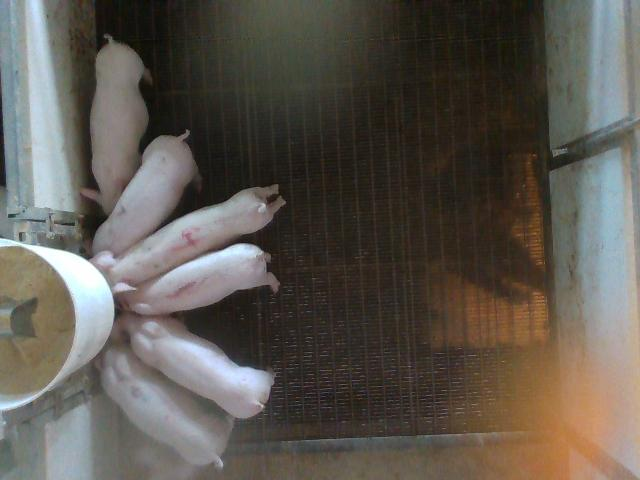pig-1: (115, 244, 280, 315)
pig-4: (91, 186, 285, 286)
